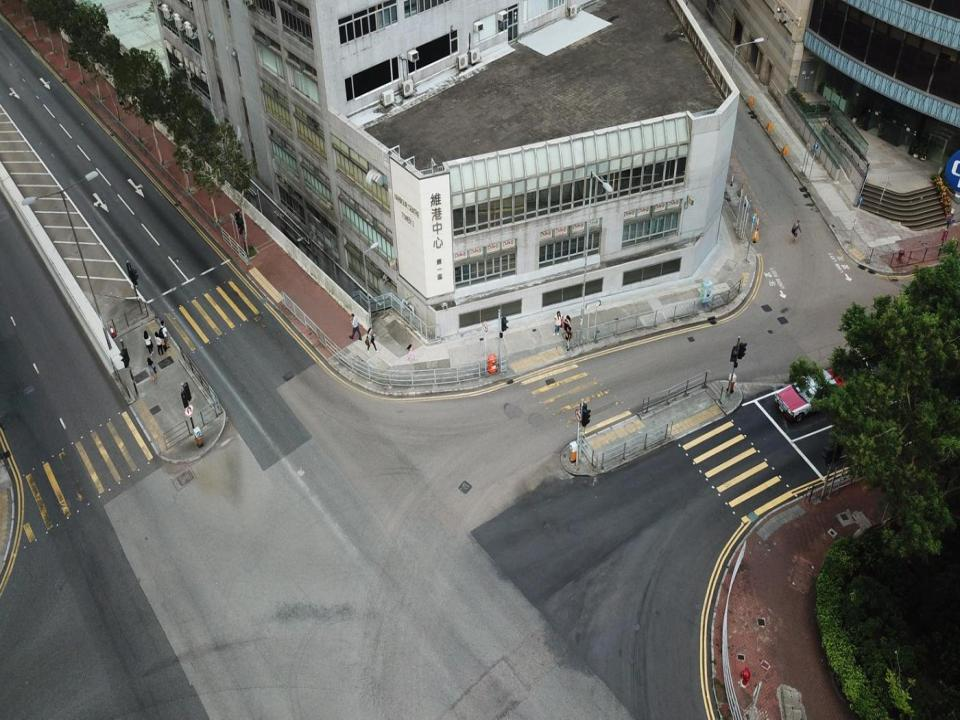car: (774, 369, 846, 423)
